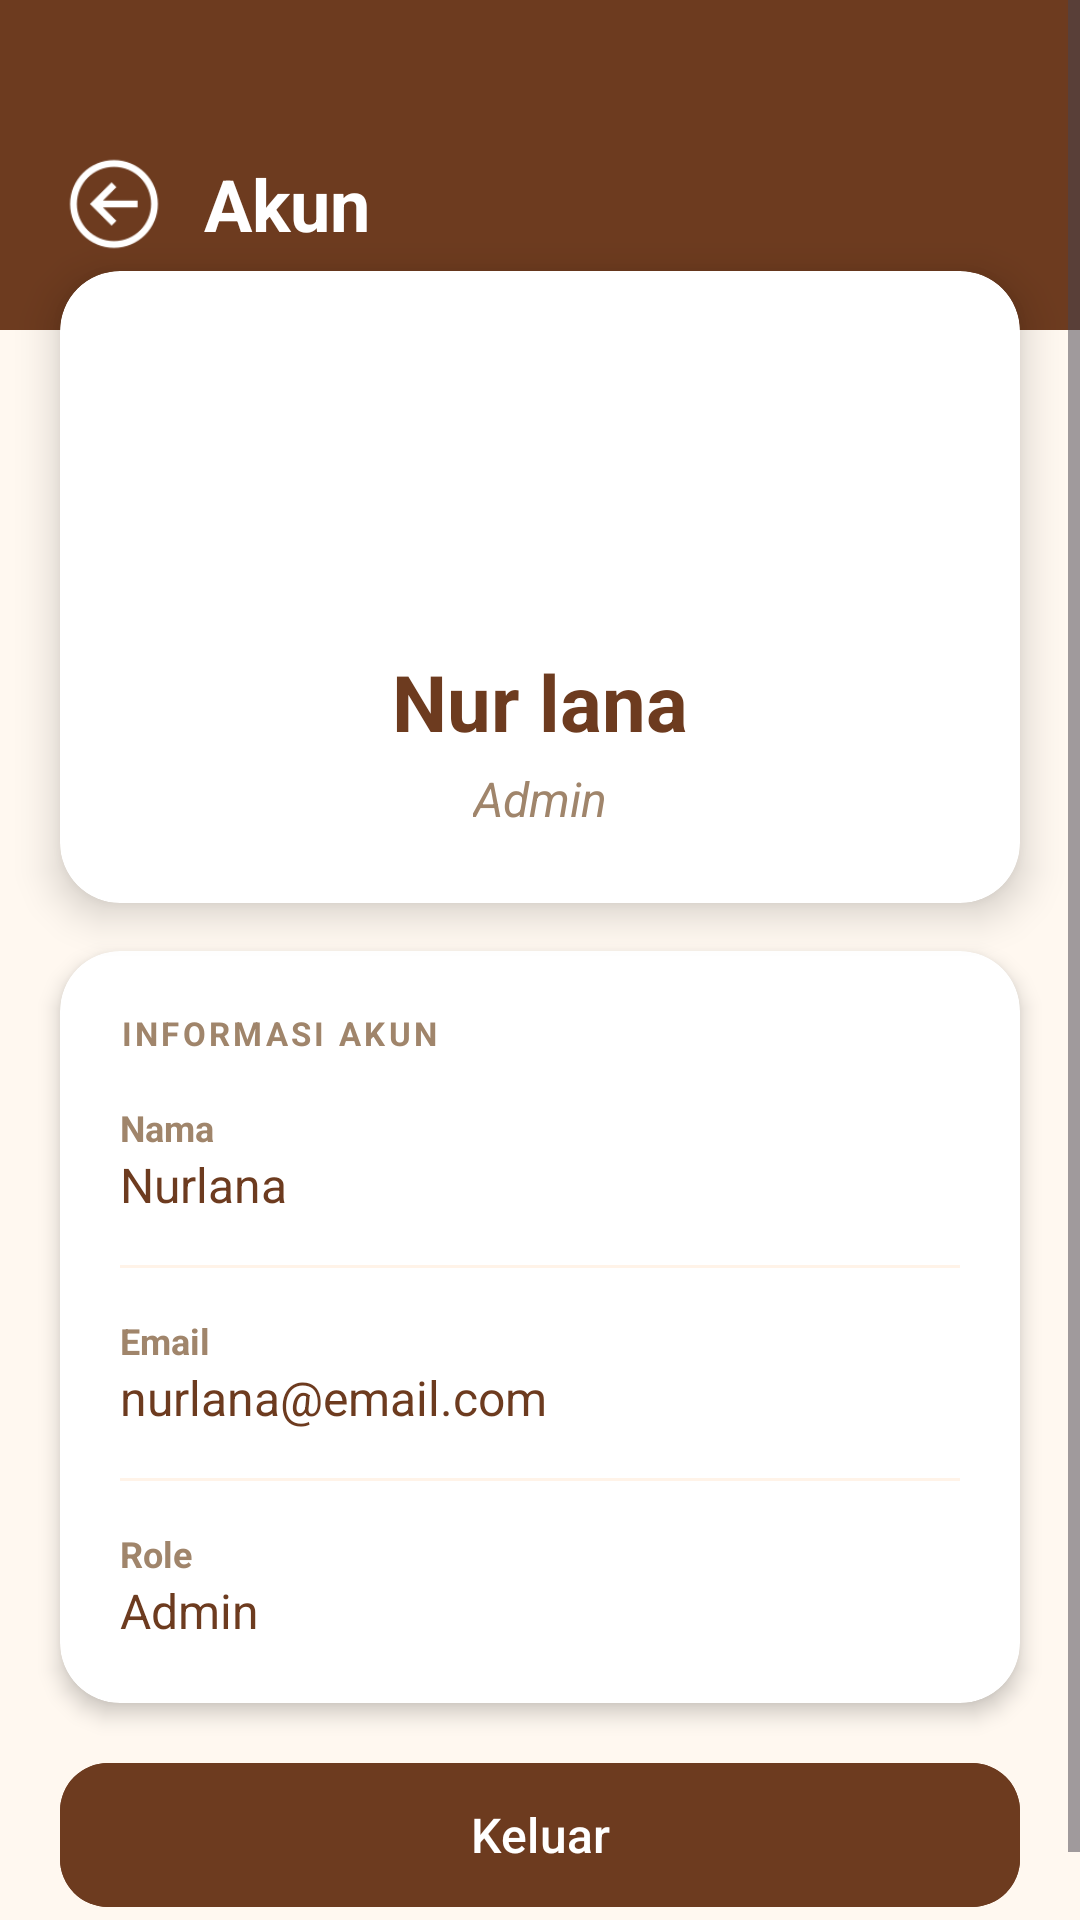

Where to tap for icons on this 1080×1920 app screen, as (x=x, y=y):
Kembali: (x=114, y=204)
